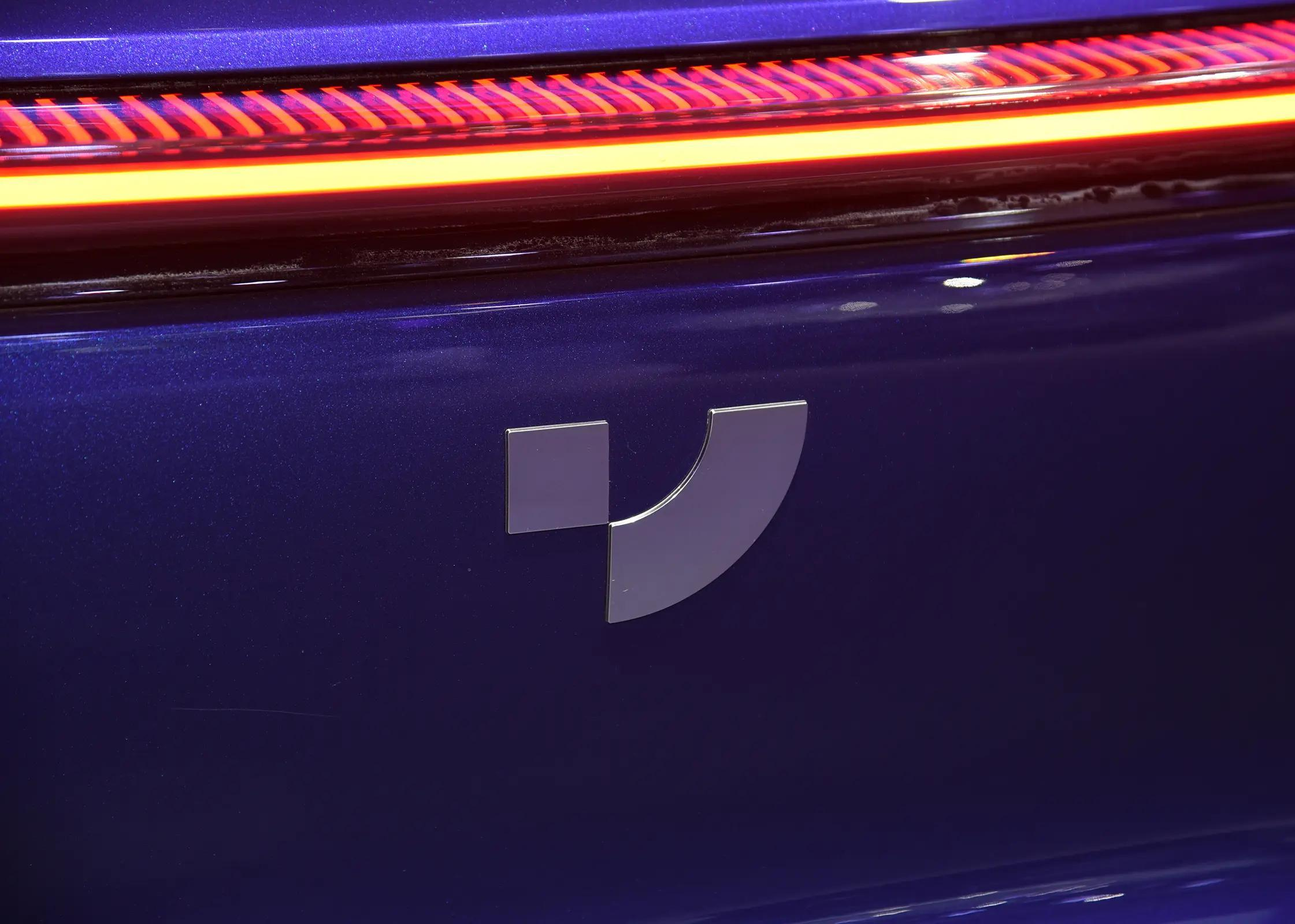JIYUE: (507, 400, 808, 625)
